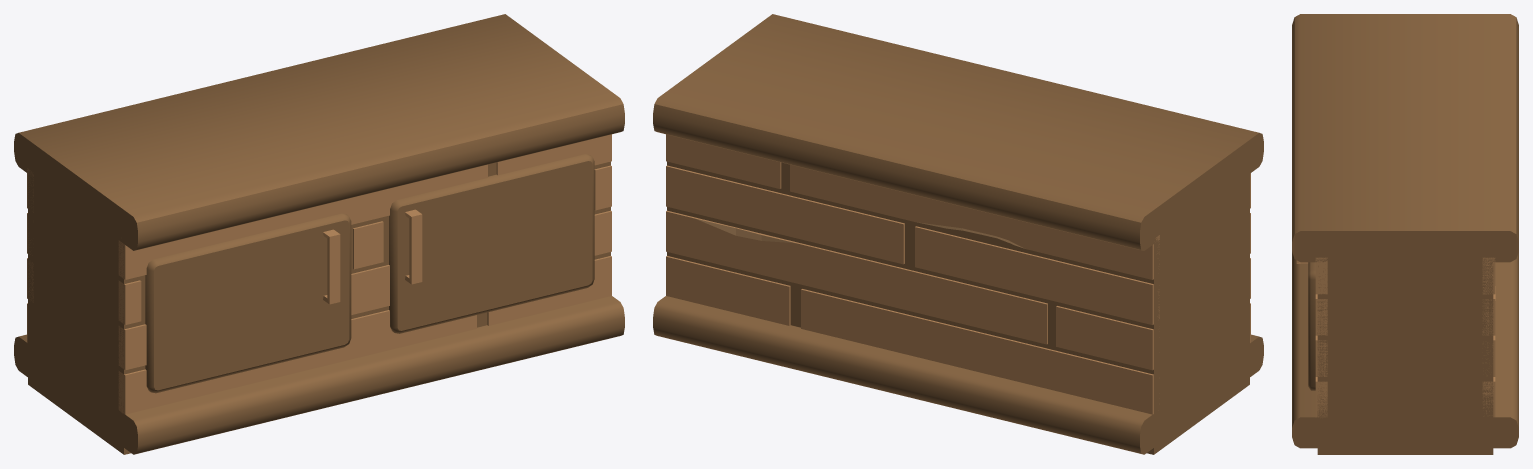
The model's file is counter-doors.glb.
The picture shows the model from 3 angles, left to right: view 1: azimuth 30°, elevation 25°; view 2: azimuth 150°, elevation 25°; view 3: azimuth 270°, elevation 25°; orthographic projection. The views are drawn at different scales.
Visible parts, largest first — view 1: Environment_Counter_Doors; view 2: Environment_Counter_Doors; view 3: Environment_Counter_Doors.
Boxes of the visible parts, x1,y1,x2,y2 form: Environment_Counter_Doors: [14, 14, 624, 454]; Environment_Counter_Doors: [653, 14, 1263, 454]; Environment_Counter_Doors: [1292, 14, 1518, 454].
Bounding box in the file's own units: 4 × 1.92 × 1.77.
